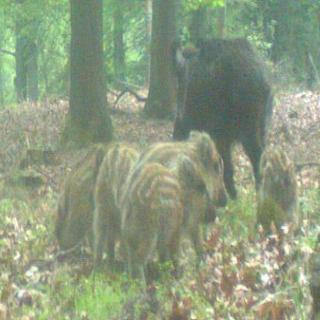Pig: (161, 5, 269, 178), (120, 153, 214, 284), (47, 118, 108, 270), (134, 122, 235, 186), (94, 130, 140, 250), (257, 125, 306, 216)
